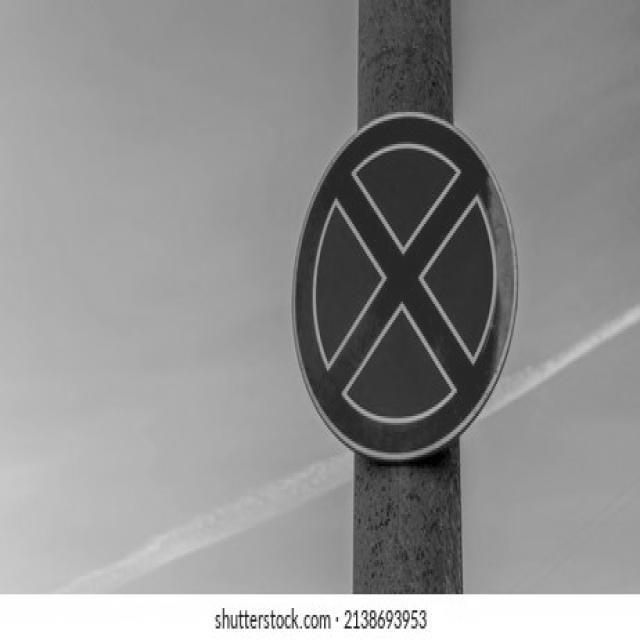no stopping or standing: (279, 101, 525, 471)
